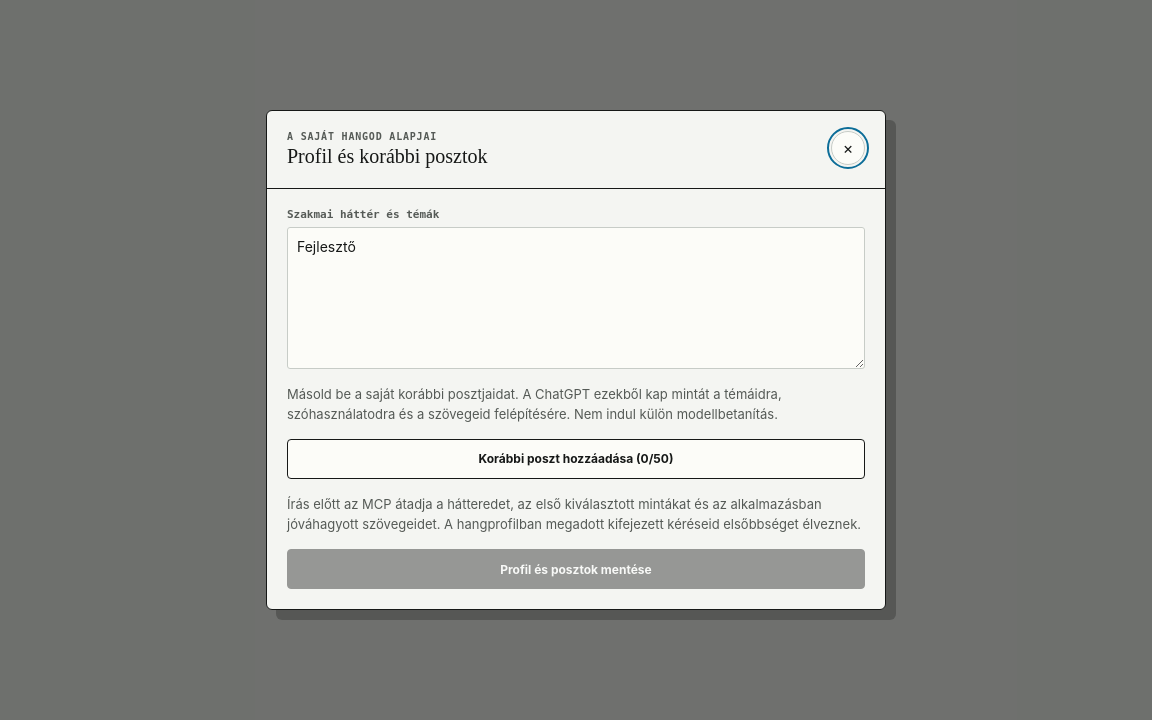
Test: saves background and a past post with the loaded revision
The width and height of the screenshot is (1152, 720).
Click the button "Korábbi poszt hozzáadása (0/50)": [576, 459] box [287,439,865,479]
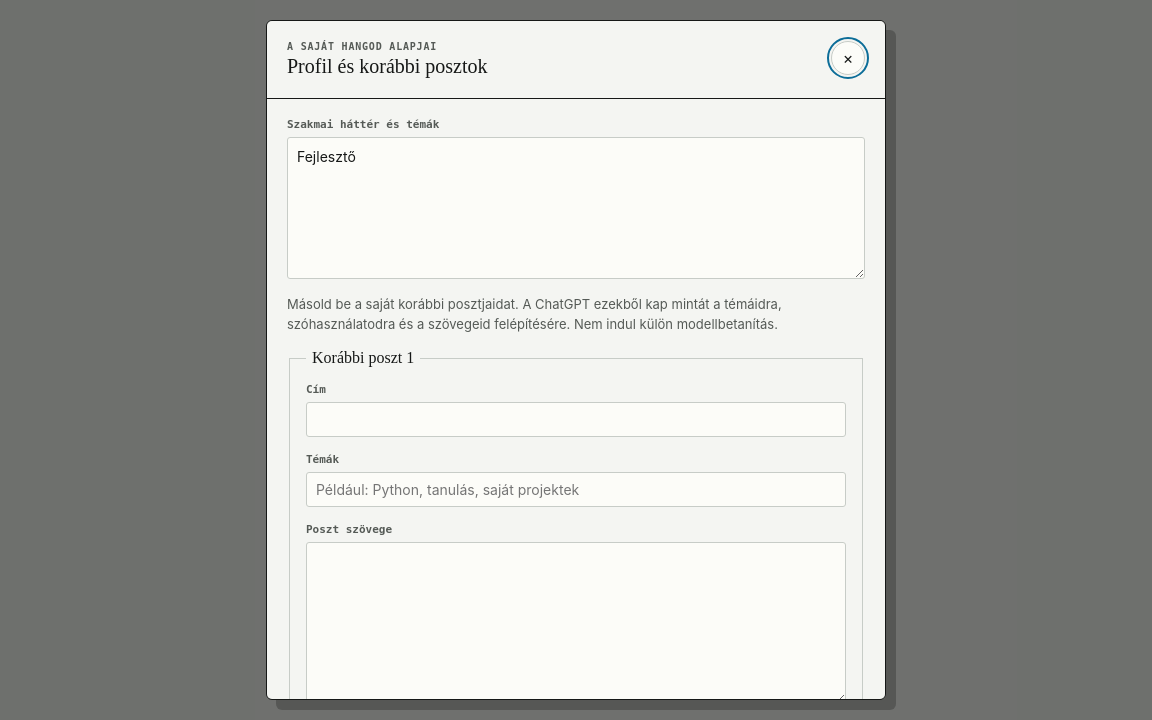
In the field labelled "Cím": [576, 420] box [306,402,846,437], type "Korábbi írás"
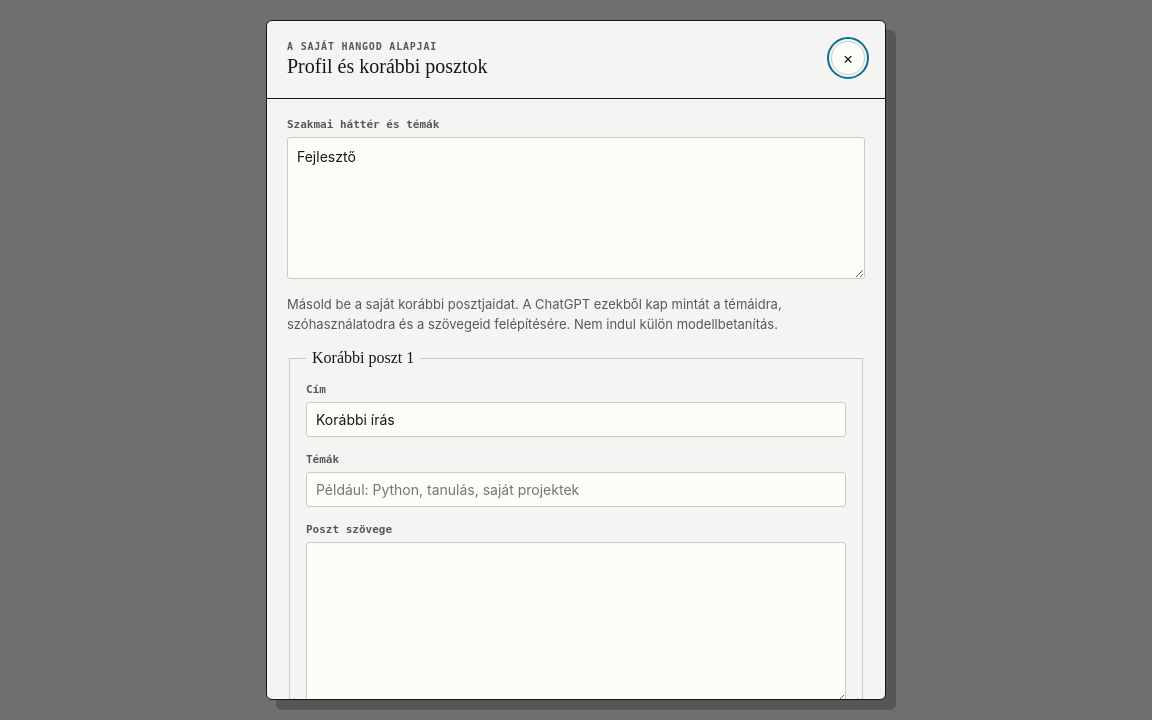
In the text box labelled "Poszt szövege": [576, 623] box [306,542,846,704], type "Az én hangom."
(page scrolled)
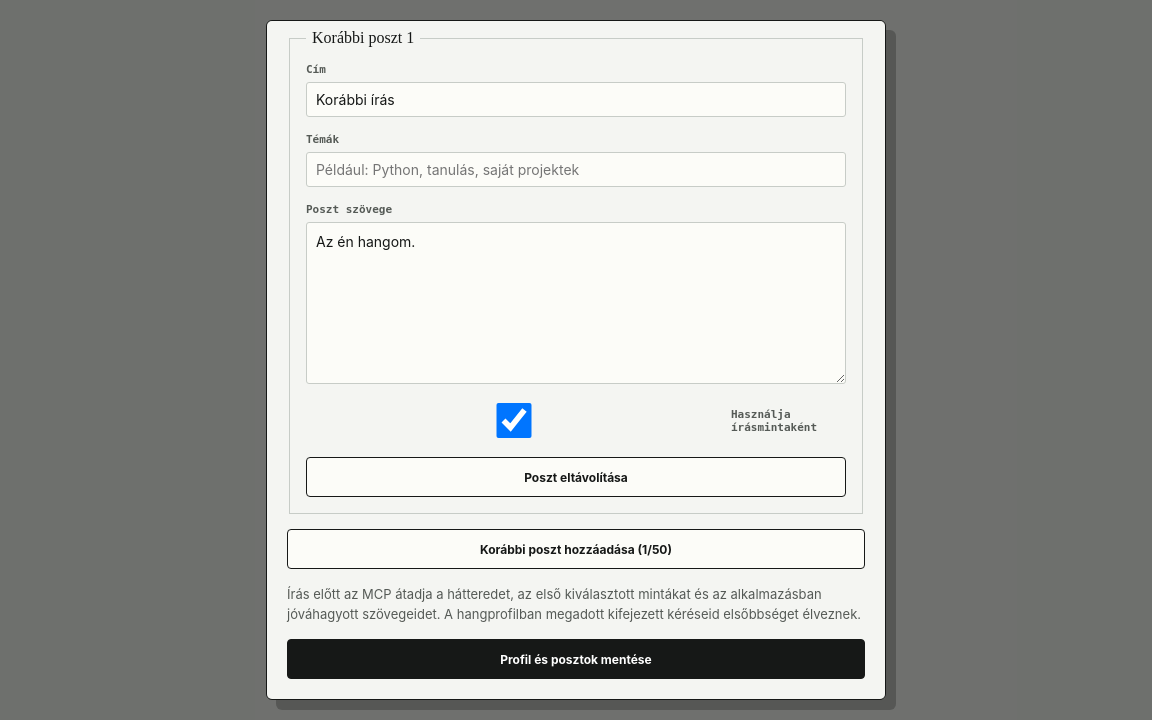
Click the checkbox labelled "Használja írásmintaként": [514, 421] box [310,403,718,438]
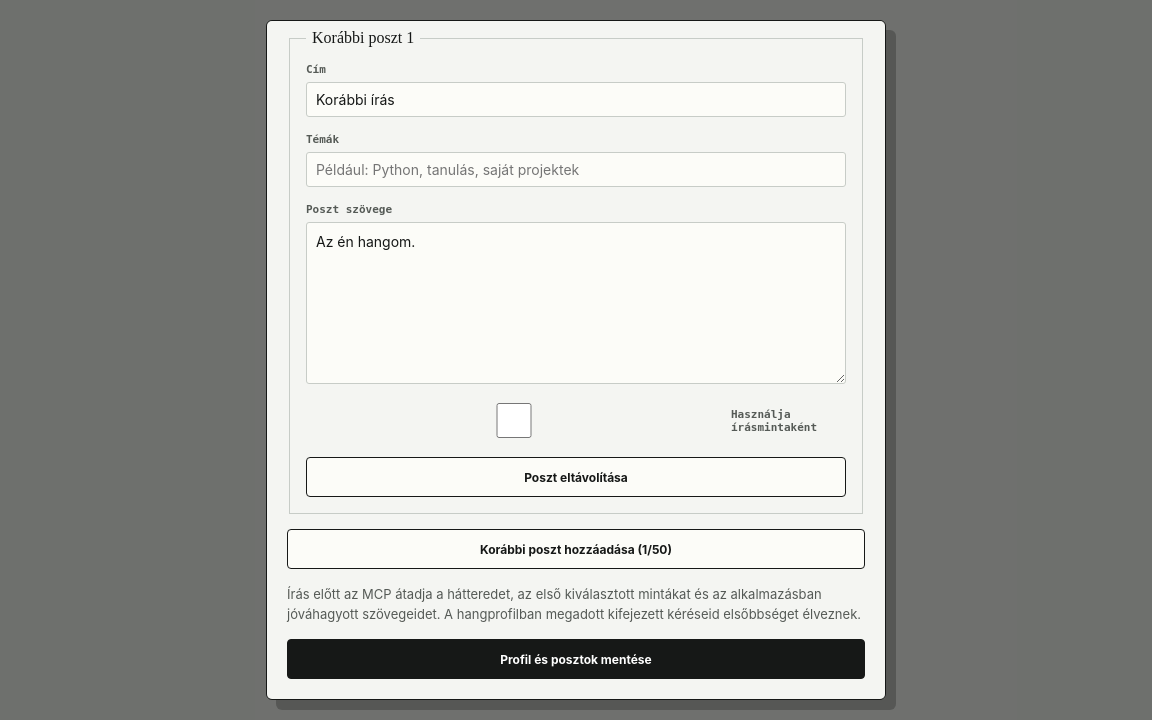
Click the button "Profil és posztok mentése": [576, 659] box [287,639,865,679]
(page scrolled)
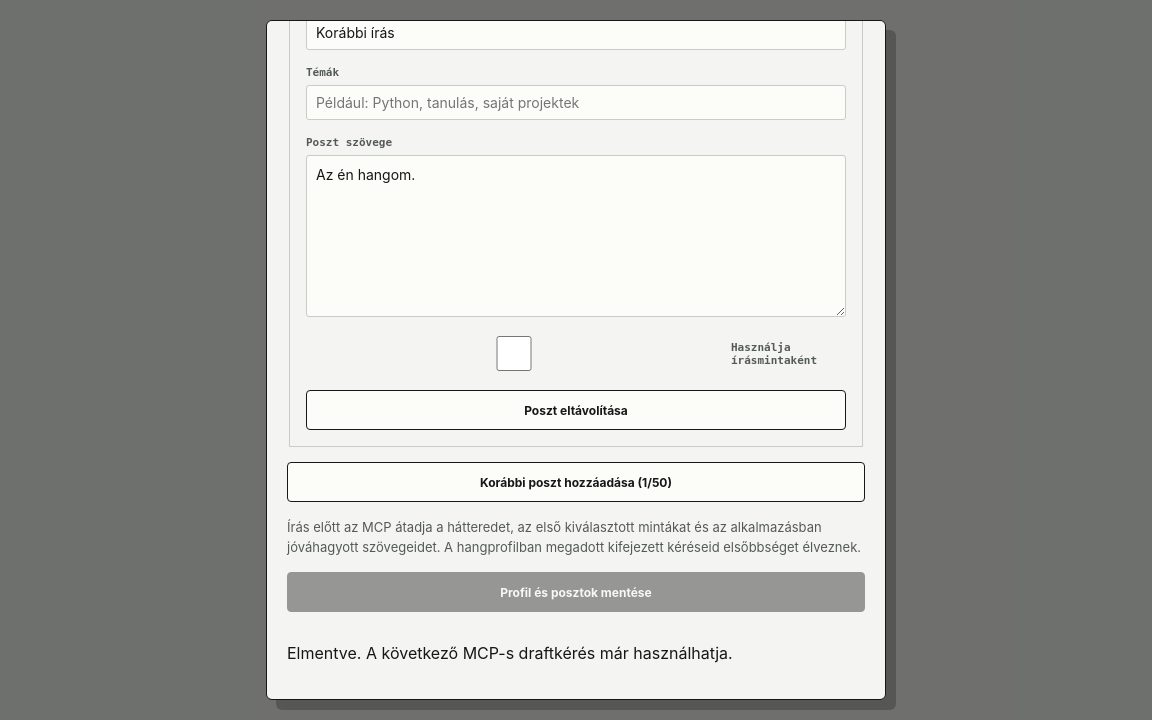
Now the message "Elmentve. A következő MCP-s draftkérés már használhatja." is shown, box [287,643,733,663]
